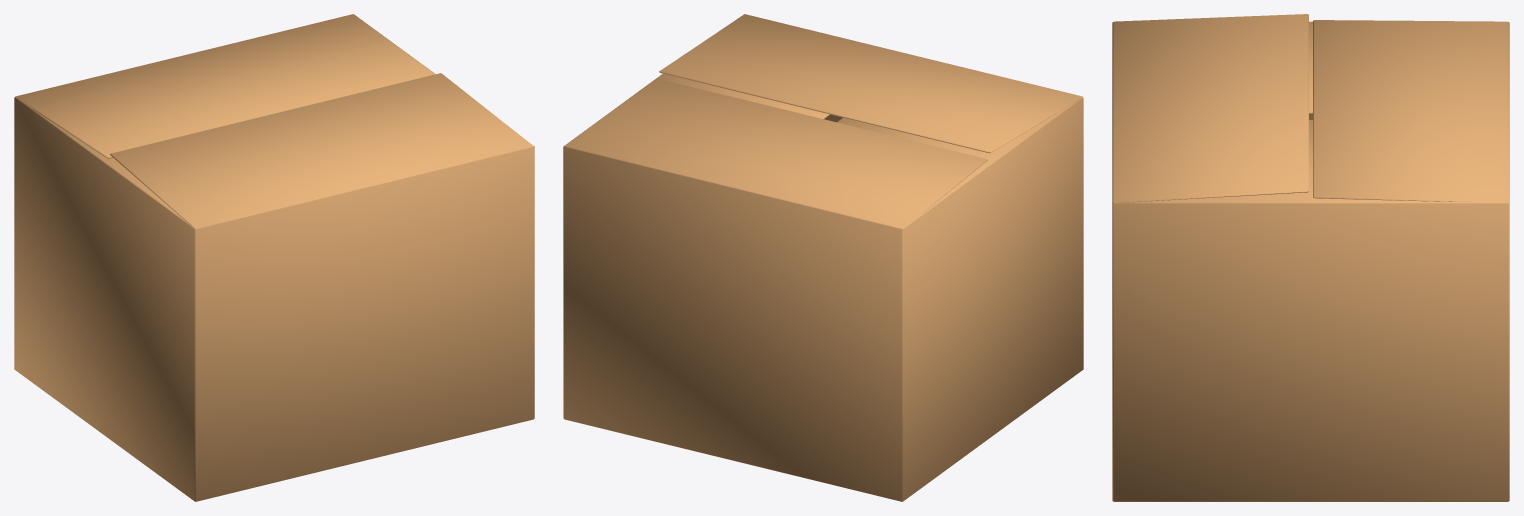
The picture shows the model from 3 angles, left to right: view 1: azimuth 30°, elevation 25°; view 2: azimuth 150°, elevation 25°; view 3: azimuth 270°, elevation 25°; orthographic projection. The views are drawn at different scales.
Visible parts, largest first — view 1: box; view 2: box; view 3: box.
Boxes of the visible parts, bbox=[...] form: box: bbox=[14, 14, 534, 501]; box: bbox=[563, 14, 1083, 501]; box: bbox=[1112, 14, 1509, 501].
Bounding box in the file's own units: 77.51 × 61.87 × 71.55.
